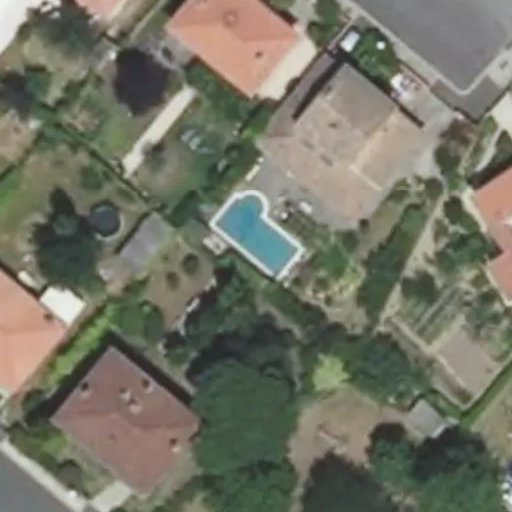pool: (213, 192, 302, 280)
